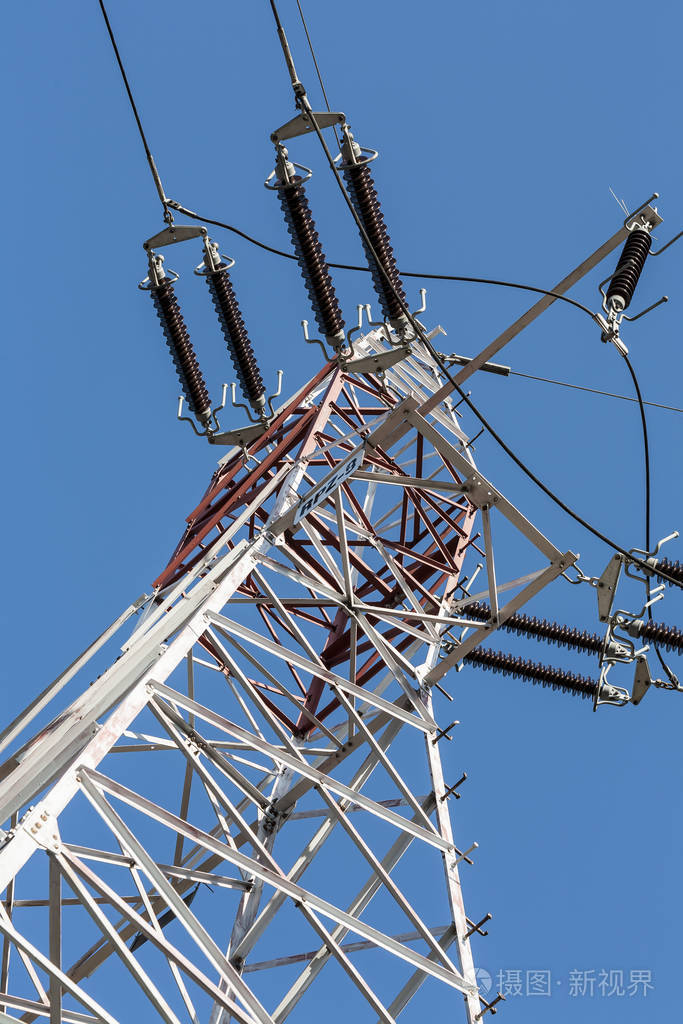insulator: (276, 173, 344, 336), (339, 156, 407, 319), (142, 274, 213, 416), (456, 604, 613, 662), (203, 267, 264, 398), (462, 646, 603, 701), (607, 228, 656, 311), (640, 616, 683, 656), (647, 554, 683, 588)
